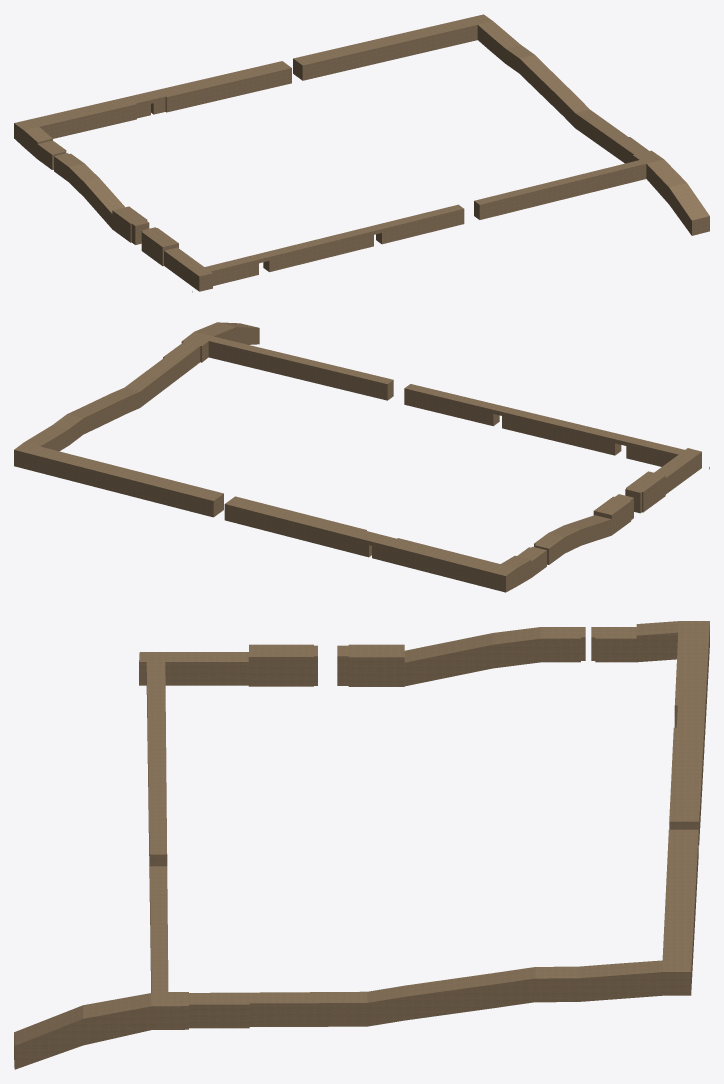
The model's file is Anubieion.obj.
3 renders of one model, top to bottom at view 1: azimuth 30°, elevation 25°; view 2: azimuth 150°, elevation 25°; view 3: azimuth 270°, elevation 25°, orthographic. The views are drawn at different scales.
Visible parts, largest first — view 1: Mesh1 Model, Mesh4 Model, Mesh2 Model, Mesh3 Model; view 2: Mesh1 Model, Mesh4 Model, Mesh2 Model, Mesh3 Model; view 3: Mesh1 Model, Mesh2 Model, Mesh4 Model, Mesh3 Model.
Part boxes in pixels (left/top/right/bottom): Mesh1 Model: left=293, top=14, right=709, bottom=235; Mesh4 Model: left=14, top=61, right=291, bottom=169; Mesh2 Model: left=141, top=204, right=464, bottom=291; Mesh3 Model: left=54, top=153, right=149, bottom=244; Mesh1 Model: left=14, top=322, right=393, bottom=517; Mesh4 Model: left=224, top=496, right=546, bottom=592; Mesh2 Model: left=404, top=384, right=701, bottom=513; Mesh3 Model: left=534, top=494, right=633, bottom=564; Mesh1 Model: left=14, top=829, right=698, bottom=1069; Mesh2 Model: left=139, top=644, right=317, bottom=877; Mesh4 Model: left=591, top=621, right=709, bottom=844; Mesh3 Model: left=337, top=627, right=585, bottom=686.
Size of the model in its own units: 262 by 31 by 213.
Materials: 2 (2 with a texture image).
